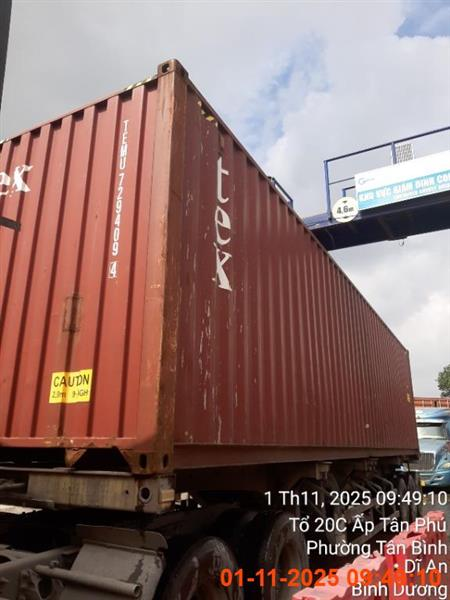hole: (1, 60, 427, 598), (0, 59, 425, 598)
